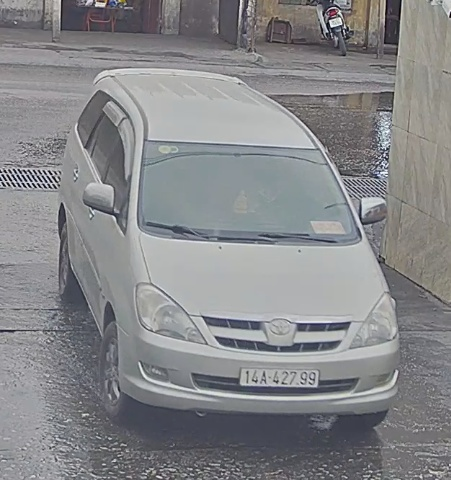vehicle plate: (234, 364, 329, 397)
